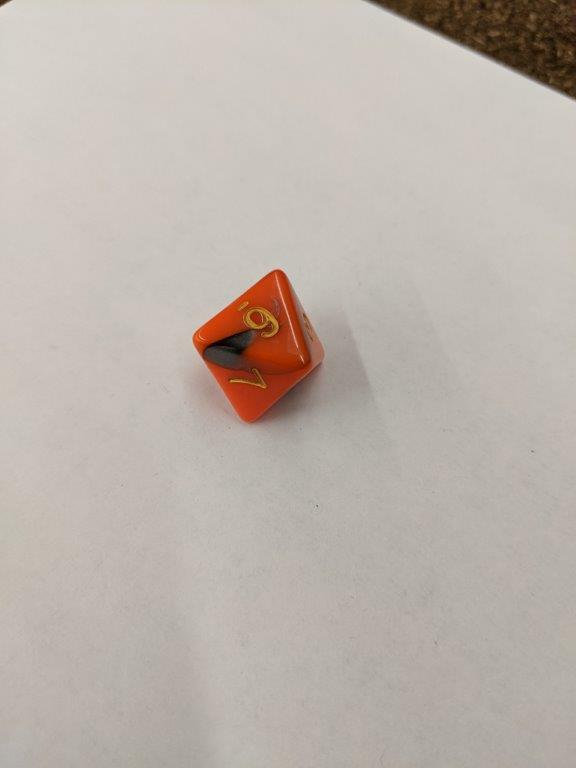d8-6: (188, 265, 330, 427)
